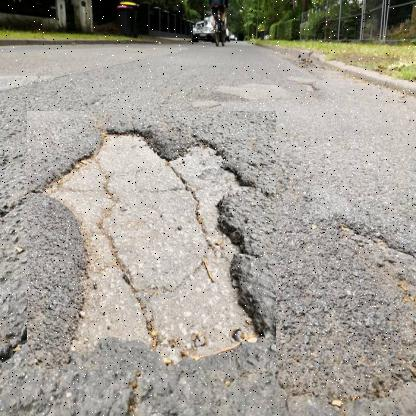damage: (27, 112, 278, 372)
